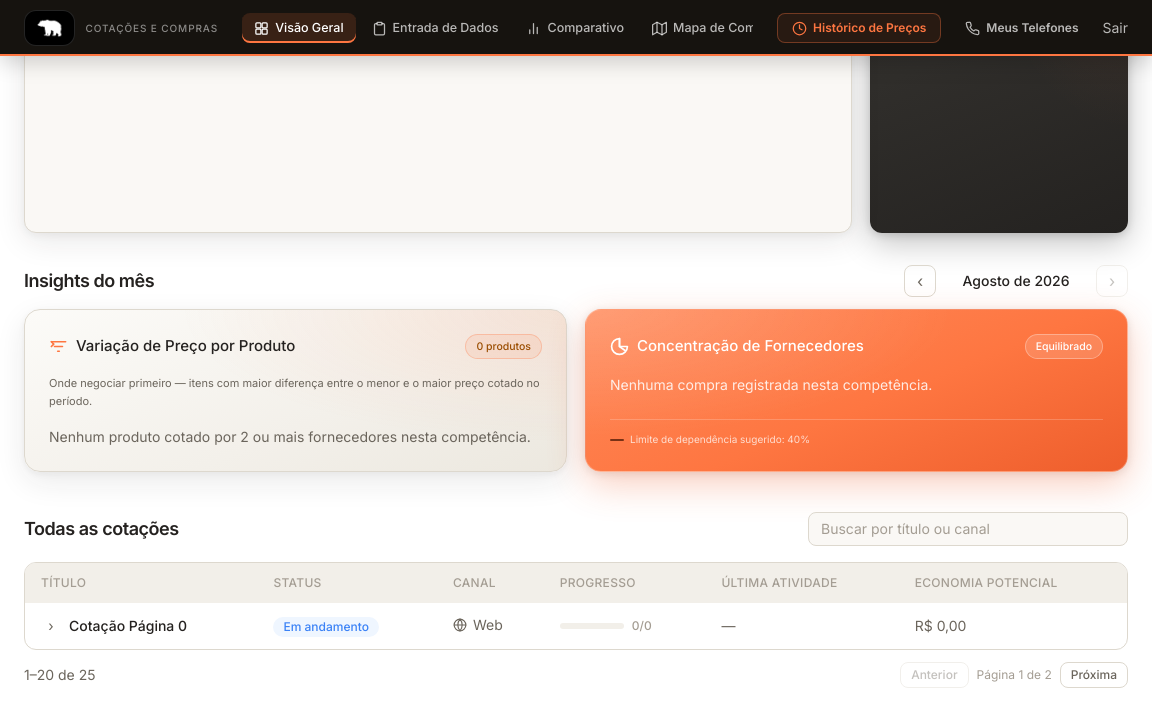
Dashboard — paginação server-side de 'Todas as cotações' › digitar um termo de busca volta a tabela pra página 0, mesmo estando numa página seguinte
(page scrolled)
Expected: the link "Cotação Página 0" is shown, [69, 617, 187, 634]
Expected: the text "…" is not shown
Click the button "Próxima". click: (1094, 675)
box: [1060, 662, 1128, 688]
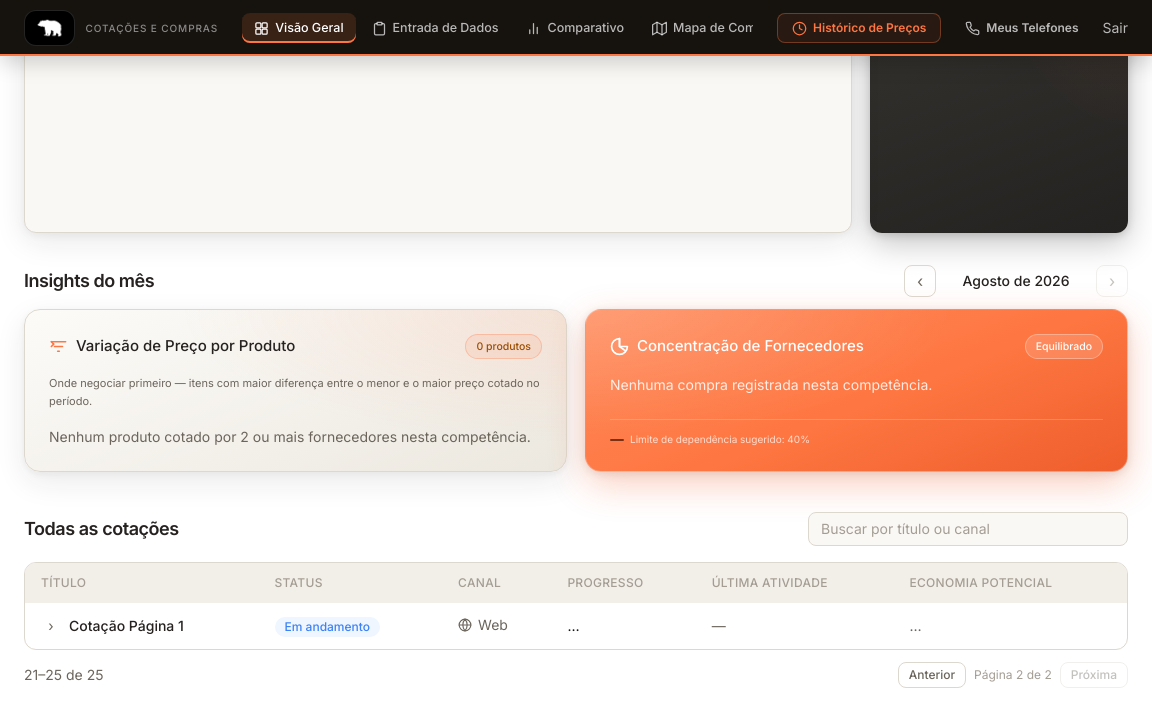
Now the link "Cotação Página 1" is shown, box [69, 617, 184, 634]
Type "achou" into the field with placeholder "Buscar por título ou canal". click: (968, 529)
box: [808, 512, 1128, 546]
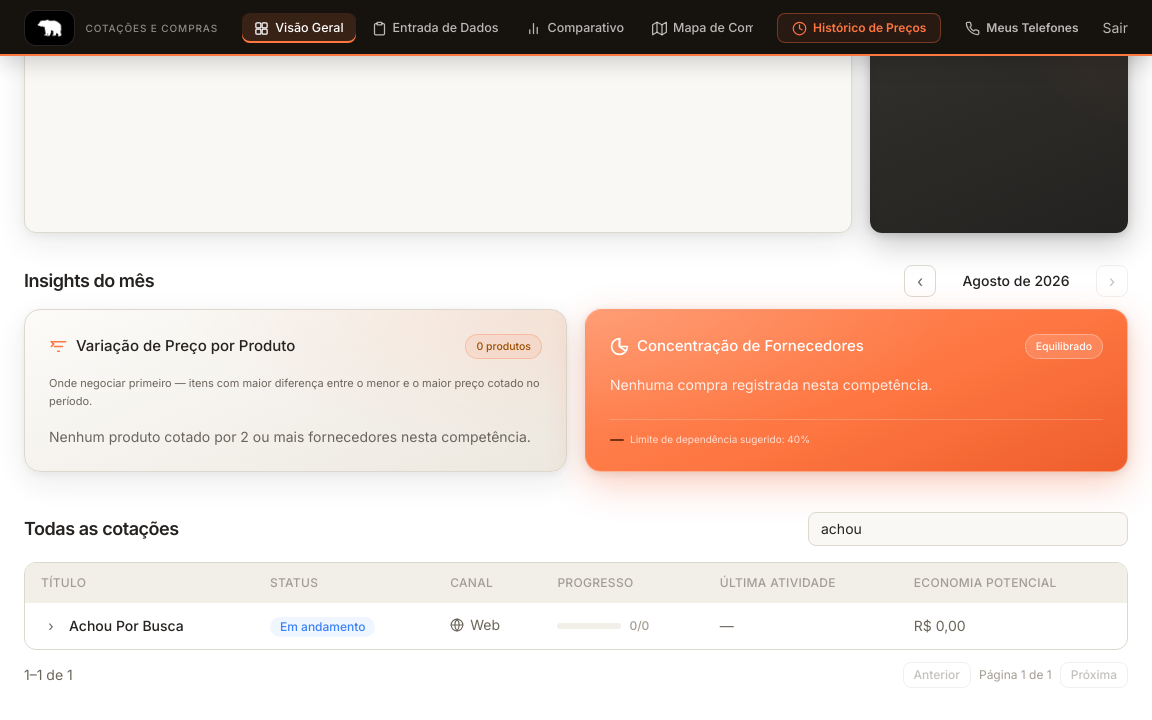
Now the link "Achou Por Busca" is shown, box [69, 617, 184, 634]
